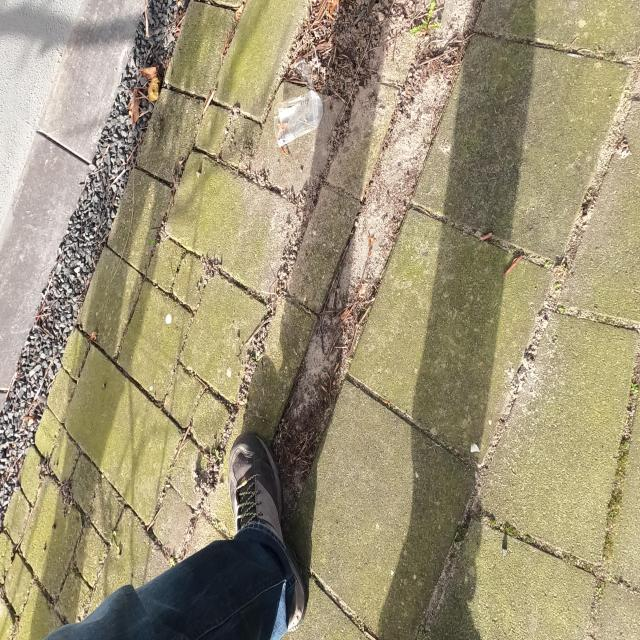Cup: (276, 92, 324, 138)
